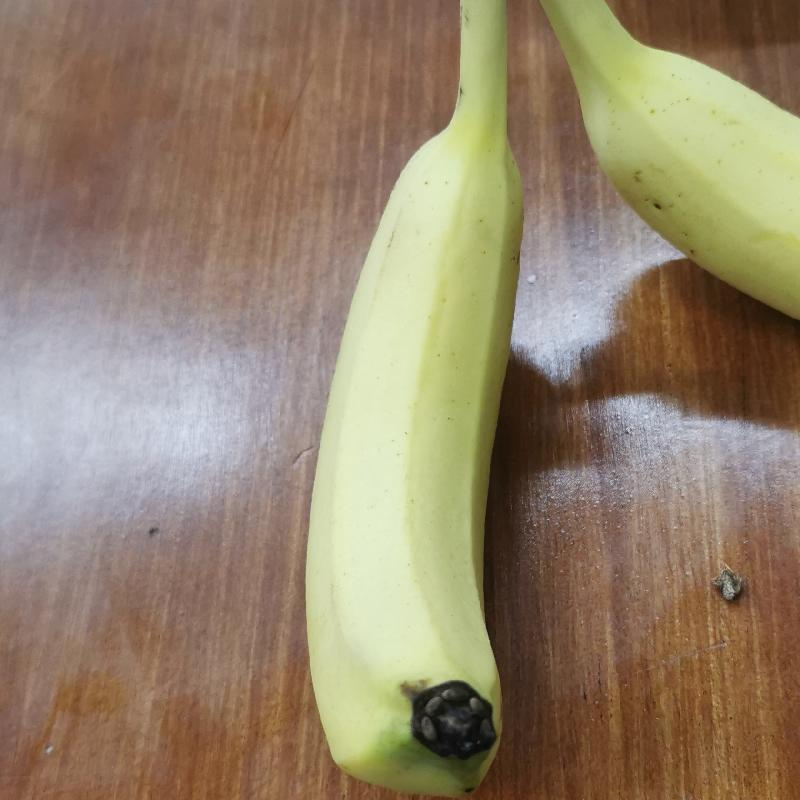bananas: (296, 47, 539, 800)
